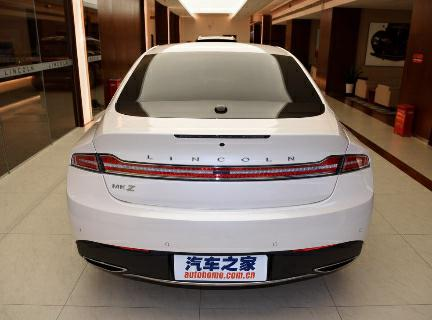林肯-MKZ: (60, 37, 384, 295)
